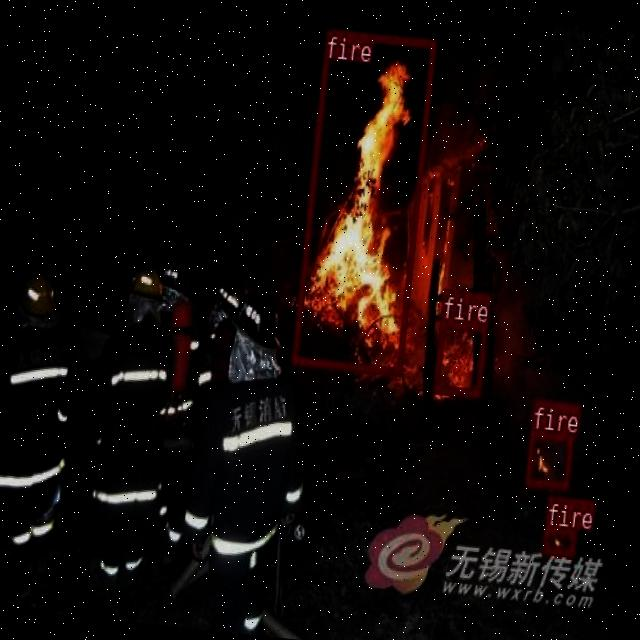fire: (291, 26, 436, 374), (432, 318, 486, 396), (523, 429, 573, 488), (540, 526, 576, 556)
